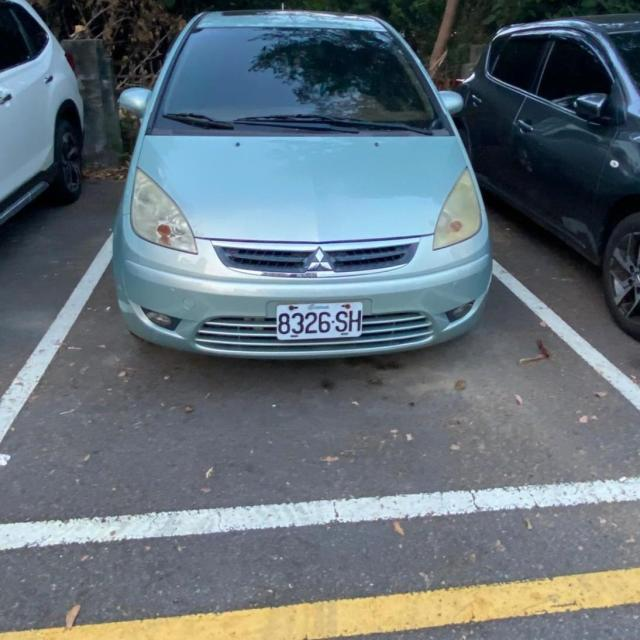W: (275, 296, 366, 346)
